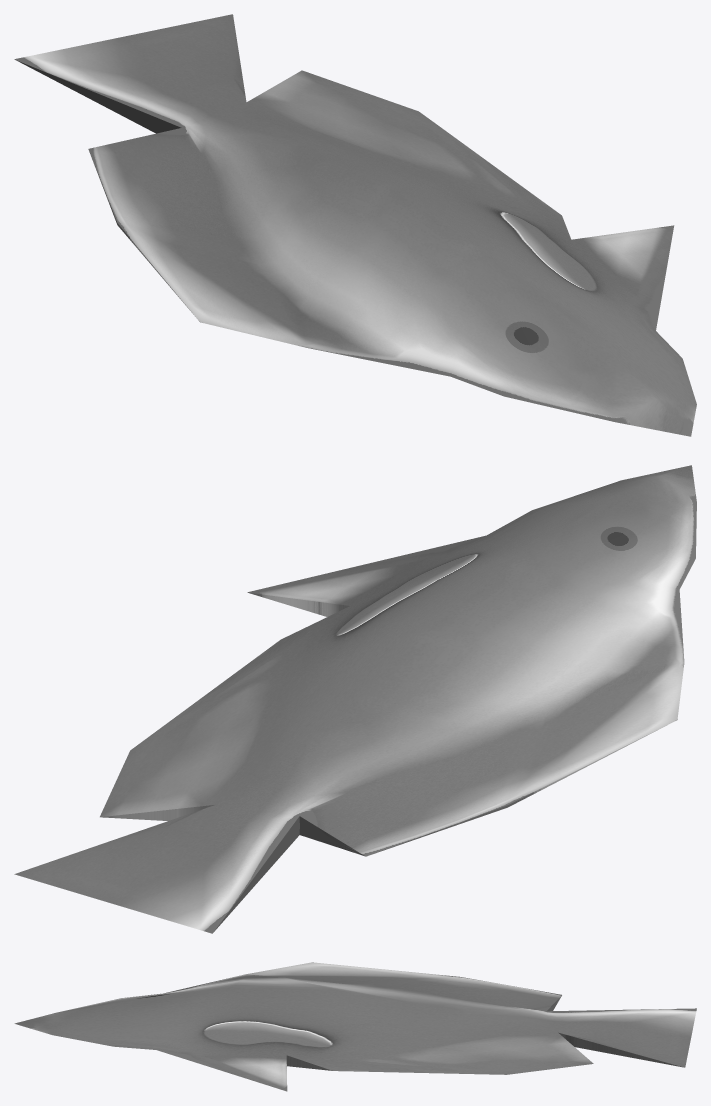
Rendered from NileFish.fbx.
The picture shows the model from 3 angles, top to bottom: view 1: azimuth 30°, elevation 25°; view 2: azimuth 150°, elevation 25°; view 3: azimuth 270°, elevation 25°; orthographic projection. The views are drawn at different scales.
Parts seen in each view (by area): view 1: NileFish; view 2: NileFish; view 3: NileFish.
Part boxes in pixels (box(x1,y1,x2,y2)): NileFish: box(14, 14, 696, 436); NileFish: box(14, 465, 696, 933); NileFish: box(14, 962, 696, 1091).
Bounding box in the file's own units: 0.1032 × 0.0257 × 0.2284.
